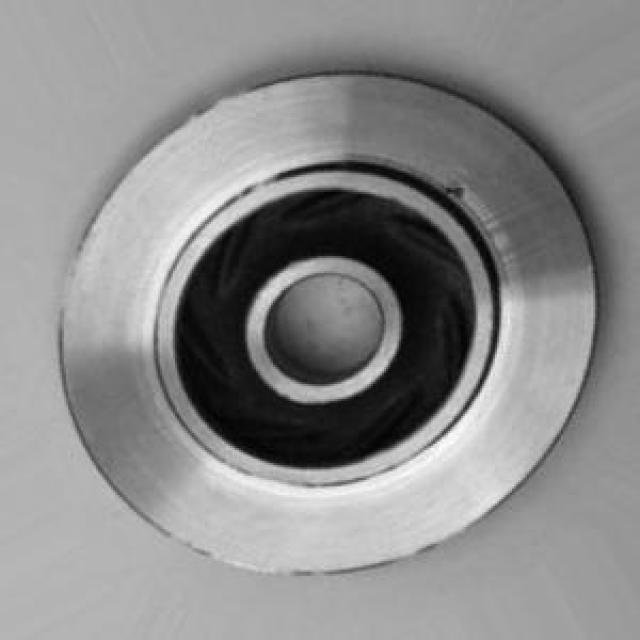Defect: (440, 175, 478, 214)
